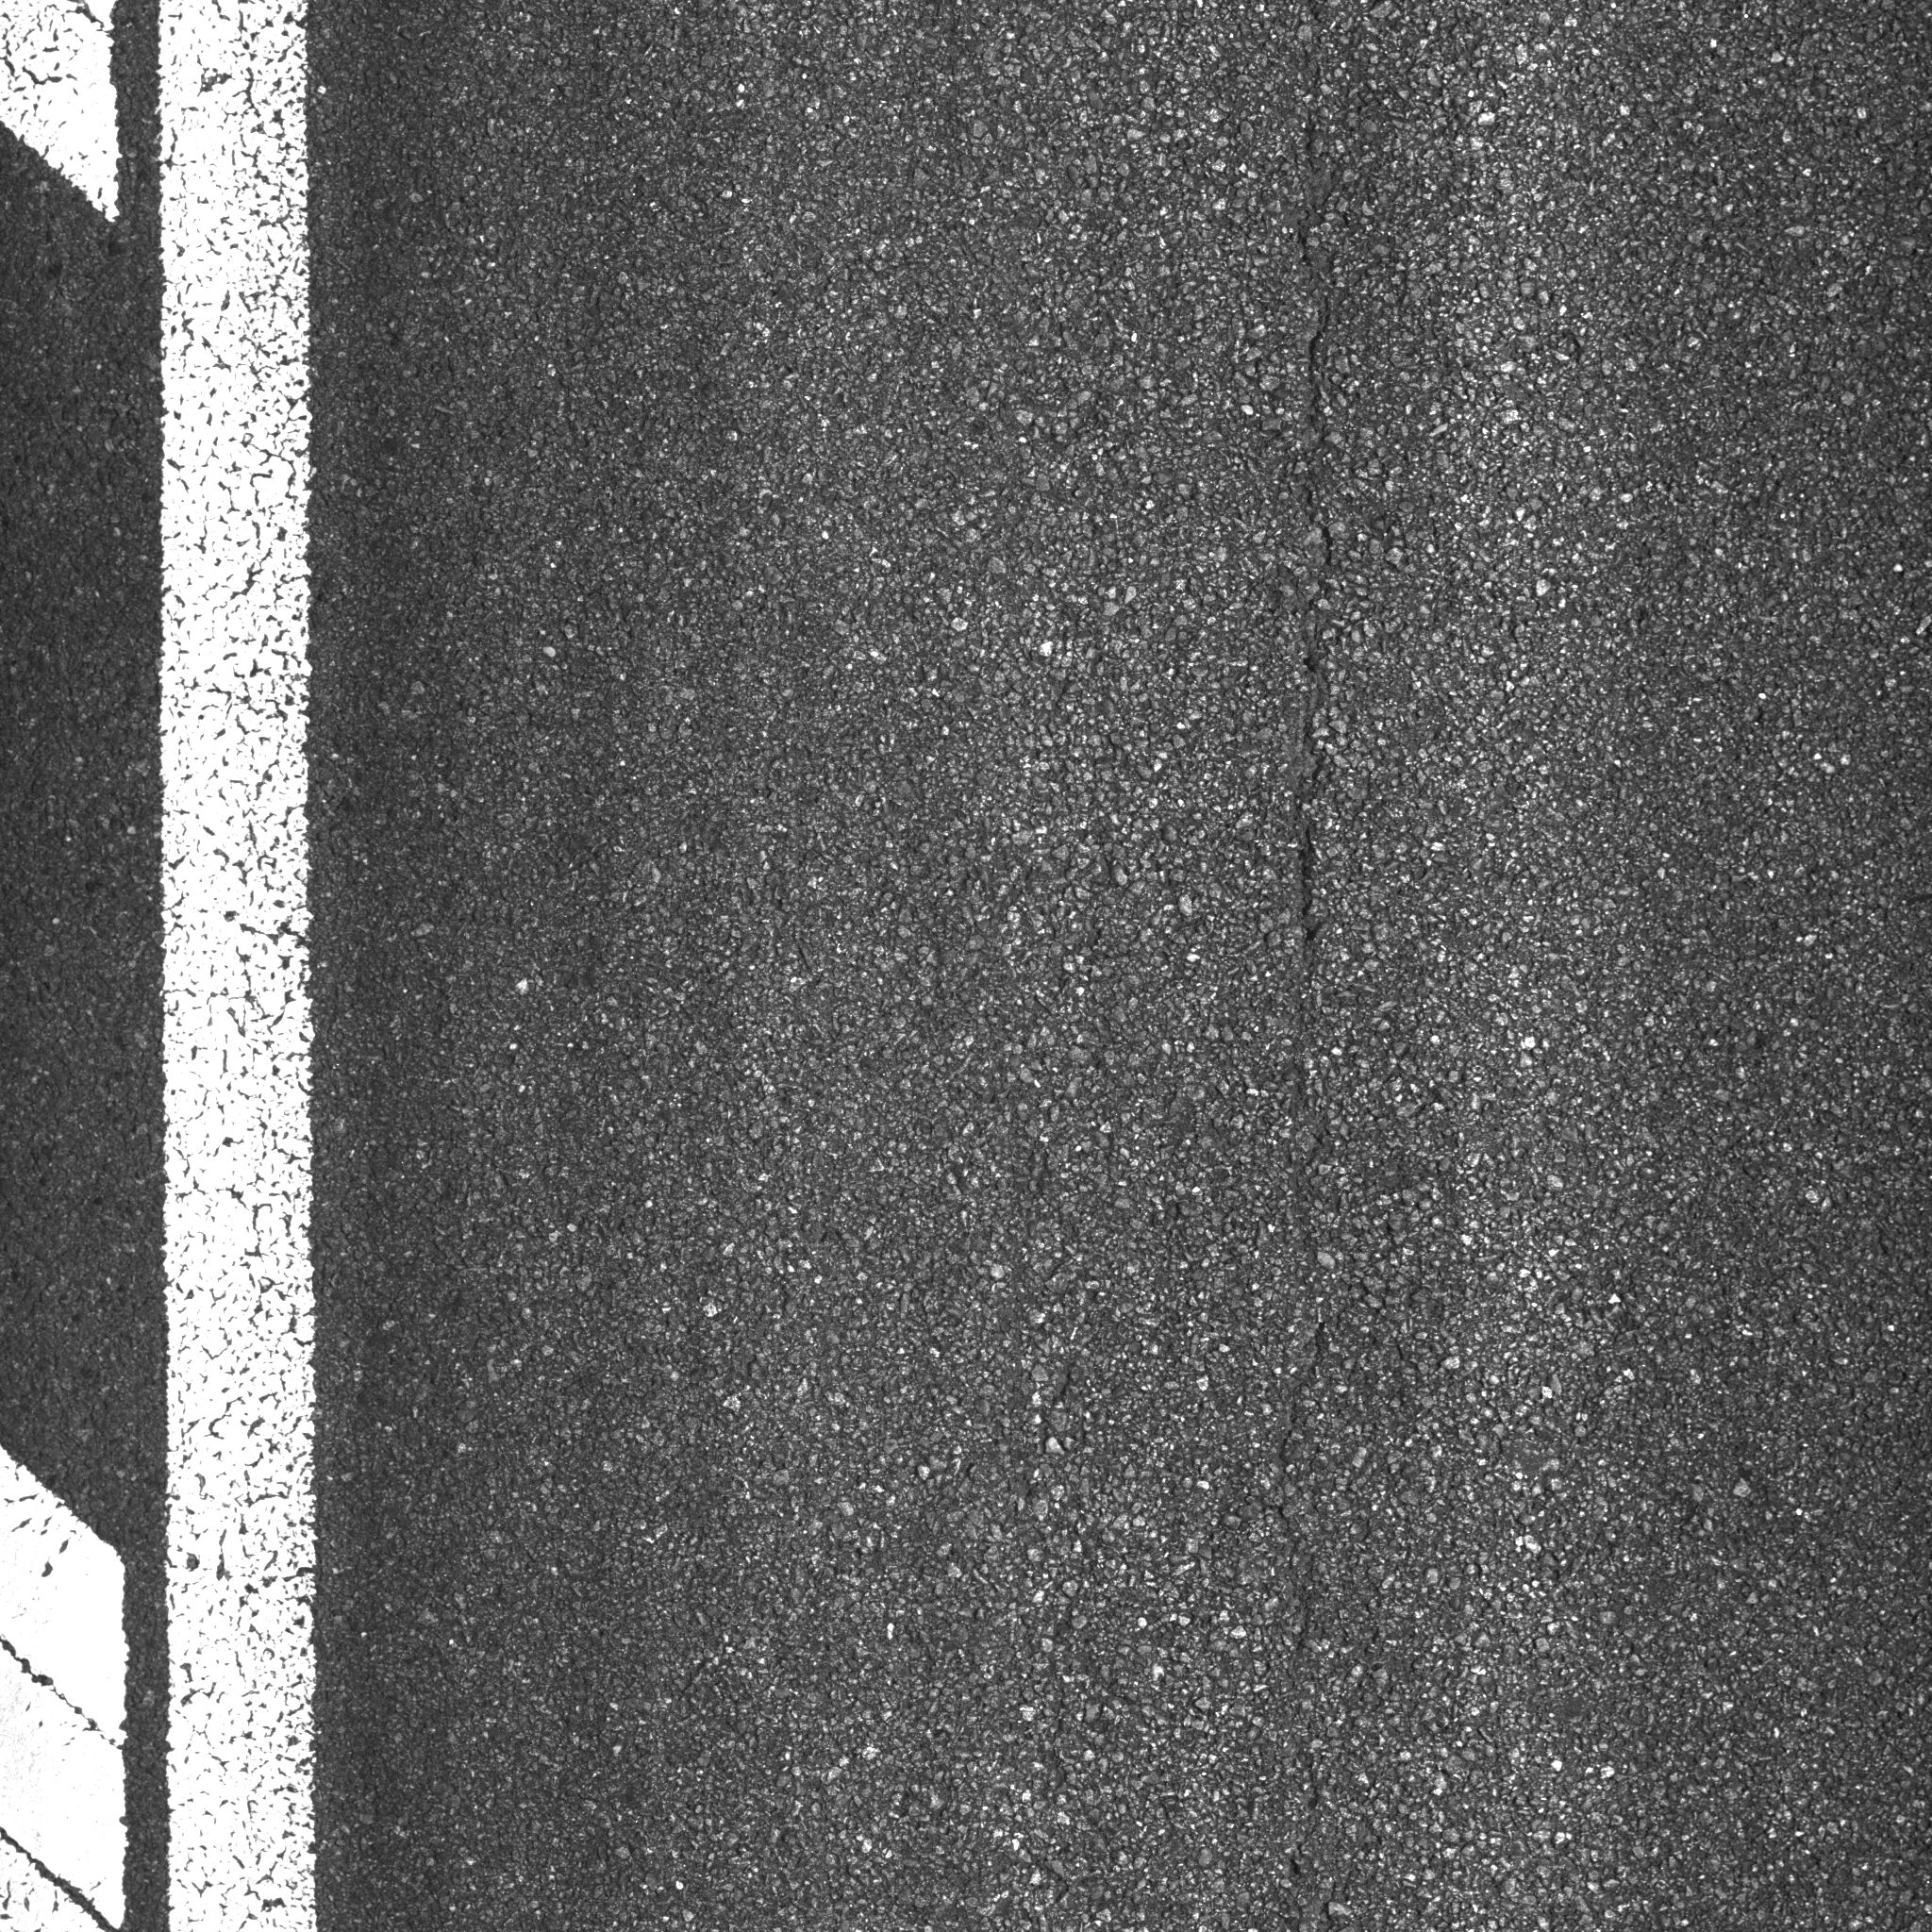longitudinal: (1246, 7, 1348, 1836)
